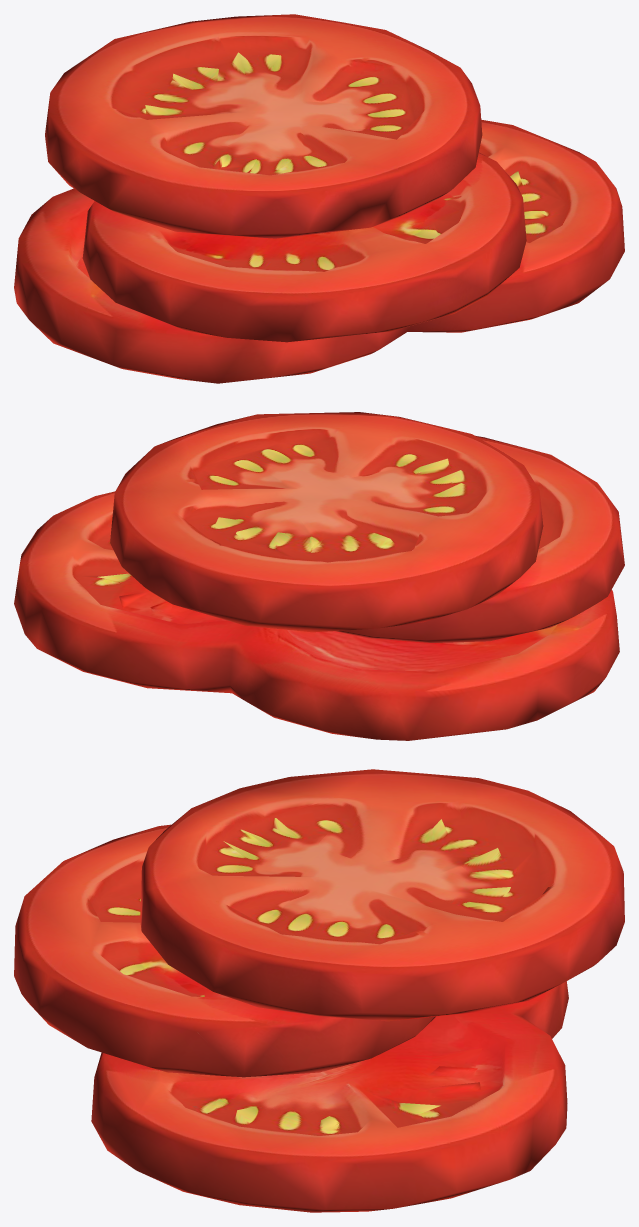
The model's file is TomatoCutted.fbx.
The picture shows the model from 3 angles, top to bottom: view 1: azimuth 30°, elevation 25°; view 2: azimuth 150°, elevation 25°; view 3: azimuth 270°, elevation 25°; orthographic projection. The views are drawn at different scales.
Parts seen in each view (by area): view 1: tripo_node_eed0a87c; view 2: tripo_node_eed0a87c; view 3: tripo_node_eed0a87c.
Part boxes in pixels (<box>): tripo_node_eed0a87c: <box>14,14,624,383</box>; tripo_node_eed0a87c: <box>14,412,624,740</box>; tripo_node_eed0a87c: <box>14,769,624,1212</box>.
Size of the model in its own units: 0.9977 by 0.2816 by 0.8586.
1 material, 1 textured.
